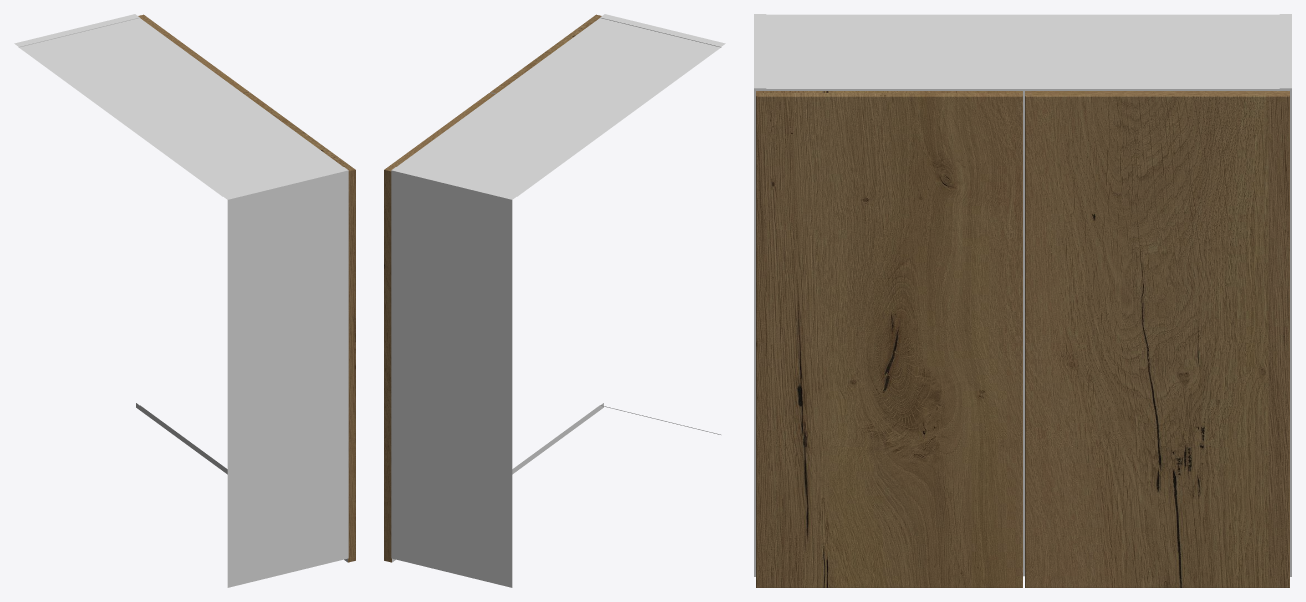
Rendered from gornji_90cm_bez_rucica.glb.
3 views of the same model, side by side, from view 1: azimuth 30°, elevation 25°; view 2: azimuth 150°, elevation 25°; view 3: azimuth 270°, elevation 25° (orthographic). The views are drawn at different scales.
Visible parts, largest first — view 1: Model; view 2: Model; view 3: Model.
Boxes of the visible parts, x1,y1,x2,y2 form: Model: (14,14,355,587); Model: (384,14,725,587); Model: (754,14,1291,587).
Bounding box in the file's own units: 280 × 812 × 800.
3 materials, 1 textured.
